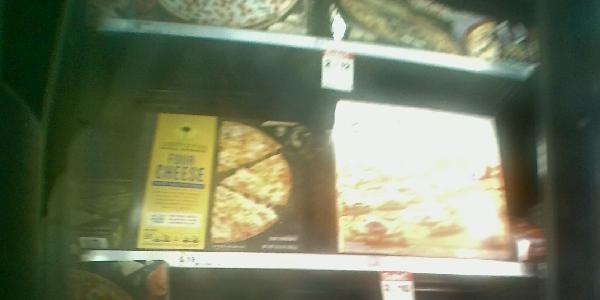pizza: (102, 100, 313, 252), (333, 98, 513, 264)
